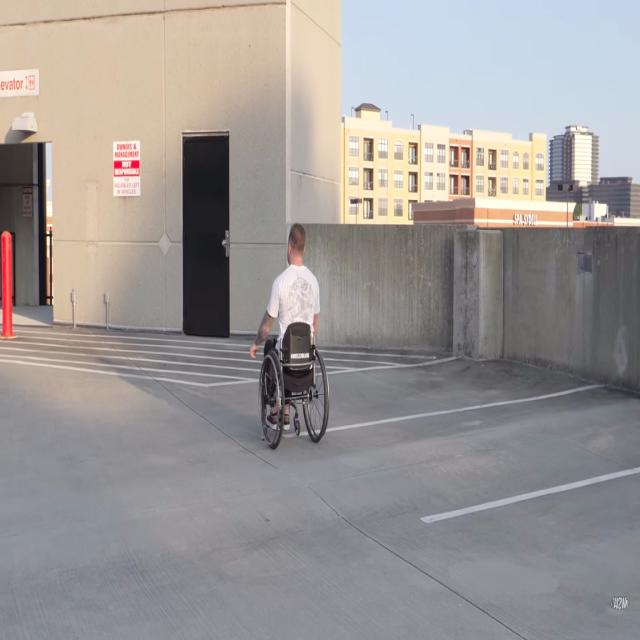wheelchairs: (255, 322, 333, 458)
